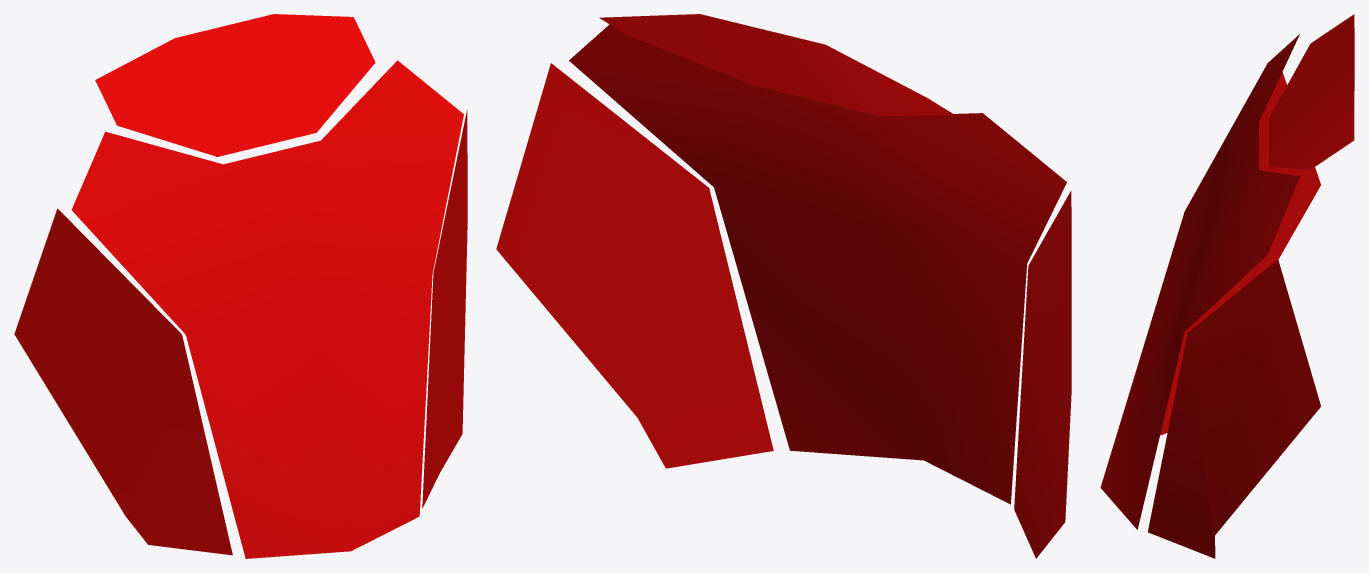
The model's file is FPV_Starship_Screen.fbx.
The picture shows the model from 3 angles, left to right: view 1: azimuth 30°, elevation 25°; view 2: azimuth 150°, elevation 25°; view 3: azimuth 270°, elevation 25°; orthographic projection. The views are drawn at different scales.
Parts seen in each view (by area): view 1: FPS_Starship_Screen; view 2: FPS_Starship_Screen; view 3: FPS_Starship_Screen.
Boxes of the visible parts, left/top/right/bottom form: FPS_Starship_Screen: left=14, top=14, right=467, bottom=558; FPS_Starship_Screen: left=496, top=14, right=1071, bottom=558; FPS_Starship_Screen: left=1100, top=14, right=1354, bottom=558.
Bounding box in the file's own units: 2.11 × 1.92 × 1.02.
